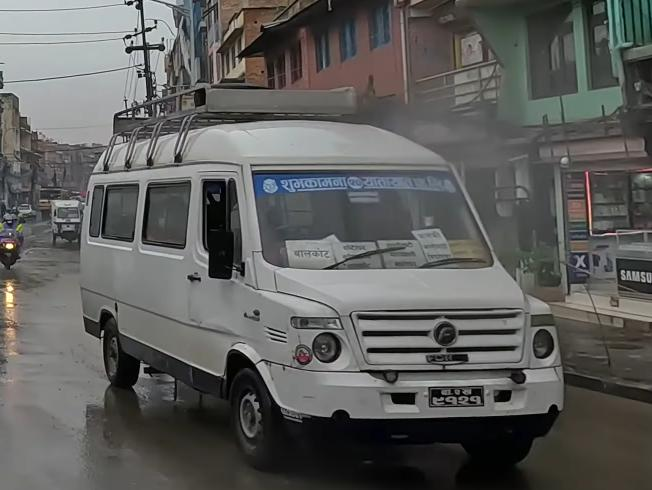micro_bus: (68, 98, 572, 469)
tempo: (50, 199, 83, 244)
